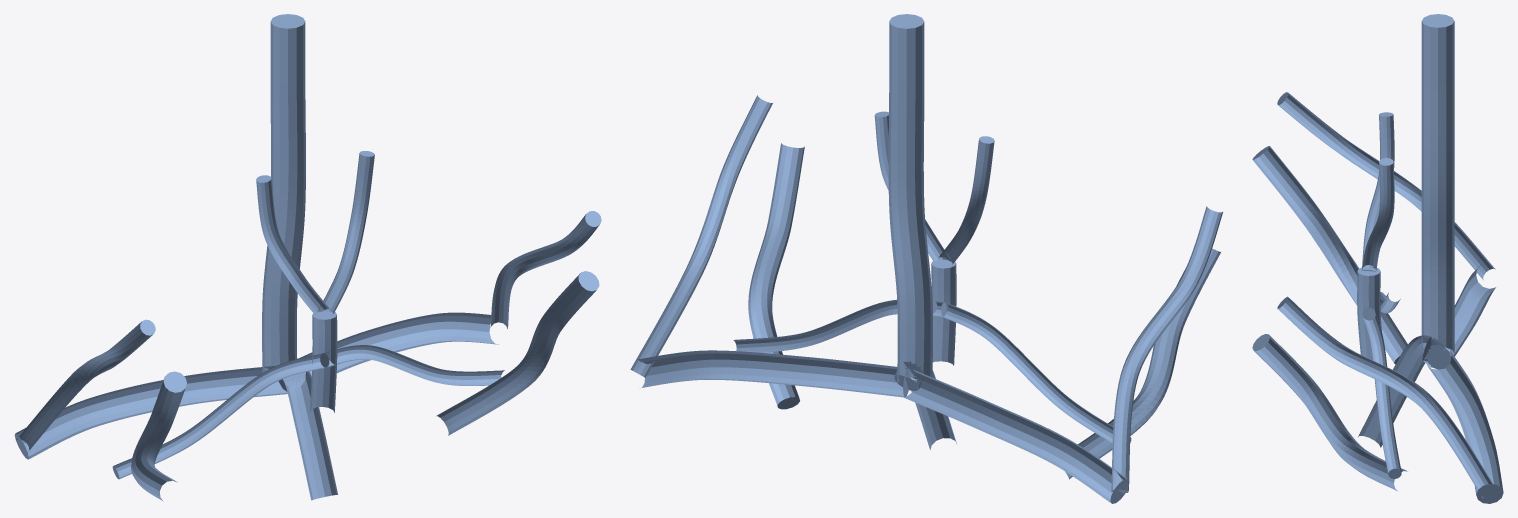
Rendered from venous_labbe.glb.
The picture shows the model from 3 angles, left to right: view 1: azimuth 30°, elevation 25°; view 2: azimuth 150°, elevation 25°; view 3: azimuth 270°, elevation 25°; orthographic projection. The views are drawn at different scales.
Parts seen in each view (by area): view 1: Seio sagital superior, Seio transverso E, Cerebral média superficial — D, Seio transverso D, Seio reto, Veia basal de Rosenthal — E, Cerebral média superficial — E, Veia de Labbé — E, Veia de Labbé — D, Veia basal de Rosenthal — D, Veia cerebral interna — D, Veia cerebral interna — E (+1 smaller); view 2: Seio sagital superior, Seio transverso D, Seio transverso E, Cerebral média superficial — D, Veia de Labbé — E, Veia de Labbé — D, Cerebral média superficial — E, Veia basal de Rosenthal — E, Veia basal de Rosenthal — D, Grande veia cerebral, Veia cerebral interna — E, Seio reto (+1 smaller); view 3: Seio sagital superior, Veia de Labbé — D, Cerebral média superficial — E, Cerebral média superficial — D, Seio transverso D, Veia de Labbé — E, Seio transverso E, Veia basal de Rosenthal — D, Seio reto, Veia cerebral interna — D, Grande veia cerebral, Veia cerebral interna — E (+1 smaller).
Part boxes in pixels (x1,y1,x2,y2): Seio sagital superior: (262, 14, 305, 372); Seio transverso E: (14, 365, 287, 459); Cerebral média superficial — D: (436, 271, 599, 435); Seio transverso D: (278, 312, 498, 391); Seio reto: (283, 371, 337, 500); Veia basal de Rosenthal — E: (112, 353, 325, 479); Cerebral média superficial — E: (131, 371, 186, 501); Veia de Labbé — E: (16, 319, 155, 450); Veia de Labbé — D: (490, 211, 601, 328); Veia basal de Rosenthal — D: (320, 345, 504, 385); Veia cerebral interna — D: (318, 151, 374, 313); Veia cerebral interna — E: (256, 175, 329, 319); Seio sagital superior: (888, 14, 932, 383); Seio transverso D: (638, 350, 909, 397); Seio transverso E: (902, 369, 1128, 503); Cerebral média superficial — D: (748, 143, 804, 409); Veia de Labbé — E: (1111, 206, 1222, 493); Veia de Labbé — D: (630, 95, 772, 377); Cerebral média superficial — E: (1065, 248, 1220, 479); Veia basal de Rosenthal — E: (941, 303, 1131, 443); Veia basal de Rosenthal — D: (733, 299, 946, 352); Grande veia cerebral: (931, 260, 956, 365); Veia cerebral interna — E: (938, 136, 994, 264); Seio reto: (894, 361, 956, 449); Seio sagital superior: (1421, 14, 1454, 353); Veia de Labbé — D: (1277, 296, 1492, 497); Cerebral média superficial — E: (1252, 146, 1407, 364); Cerebral média superficial — D: (1252, 334, 1407, 491); Seio transverso D: (1427, 350, 1503, 503); Veia de Labbé — E: (1277, 92, 1495, 280); Seio transverso E: (1425, 265, 1495, 369); Veia basal de Rosenthal — D: (1363, 314, 1401, 478); Seio reto: (1358, 335, 1444, 447); Veia cerebral interna — D: (1362, 158, 1394, 270); Grande veia cerebral: (1357, 267, 1381, 360); Veia cerebral interna — E: (1361, 112, 1394, 271).
Bounding box in the file's own units: 6.18 × 5.46 × 2.91.
